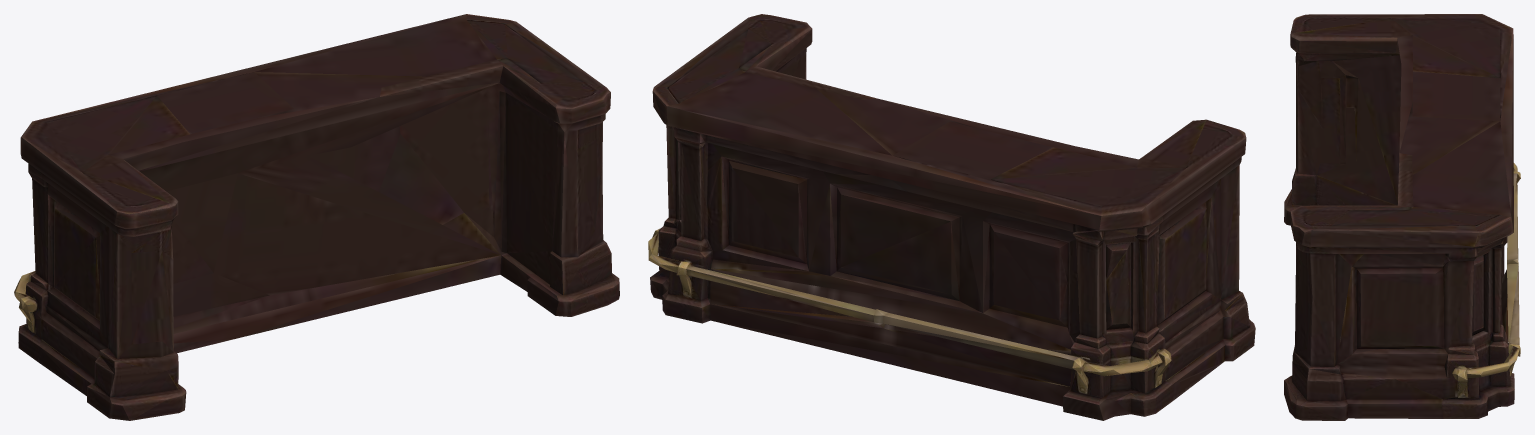
Rendered from balcao_bar.glb.
The picture shows the model from 3 angles, left to right: view 1: azimuth 30°, elevation 25°; view 2: azimuth 150°, elevation 25°; view 3: azimuth 270°, elevation 25°; orthographic projection. The views are drawn at different scales.
Visible parts, largest first — view 1: Mesh_0; view 2: Mesh_0; view 3: Mesh_0.
Boxes of the visible parts, x1,y1,x2,y2 form: Mesh_0: (14, 14, 619, 420); Mesh_0: (648, 14, 1255, 420); Mesh_0: (1284, 14, 1520, 420).
Bounding box in the file's own units: 2.85 × 1.1 × 1.26.
1 material, 1 textured.
